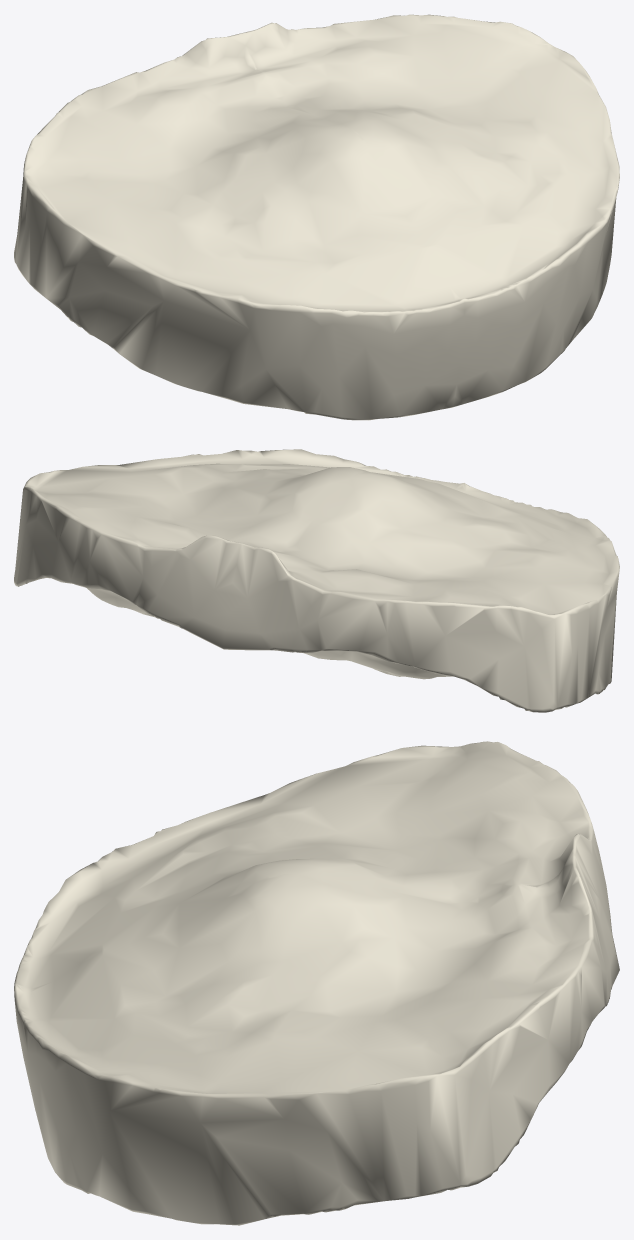
3 renders of one model, top to bottom at view 1: azimuth 30°, elevation 25°; view 2: azimuth 150°, elevation 25°; view 3: azimuth 270°, elevation 25°, orthographic. The views are drawn at different scales.
Visible parts, largest first — view 1: ZA_72d1f10e23a9de1d; view 2: ZA_72d1f10e23a9de1d; view 3: ZA_72d1f10e23a9de1d.
Part boxes in pixels (<box>): ZA_72d1f10e23a9de1d: <box>14,14,619,420</box>; ZA_72d1f10e23a9de1d: <box>14,449,619,712</box>; ZA_72d1f10e23a9de1d: <box>14,741,619,1225</box>.
Bounding box in the file's own units: 0.0507 × 0.0196 × 0.0388.
